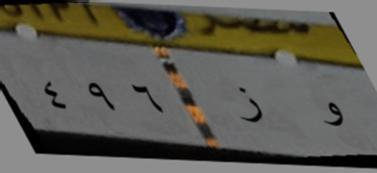4: (36, 73, 74, 118)
6: (130, 71, 166, 126)
9: (83, 78, 122, 115)
waw: (318, 93, 347, 138)
zay: (230, 79, 267, 132)
